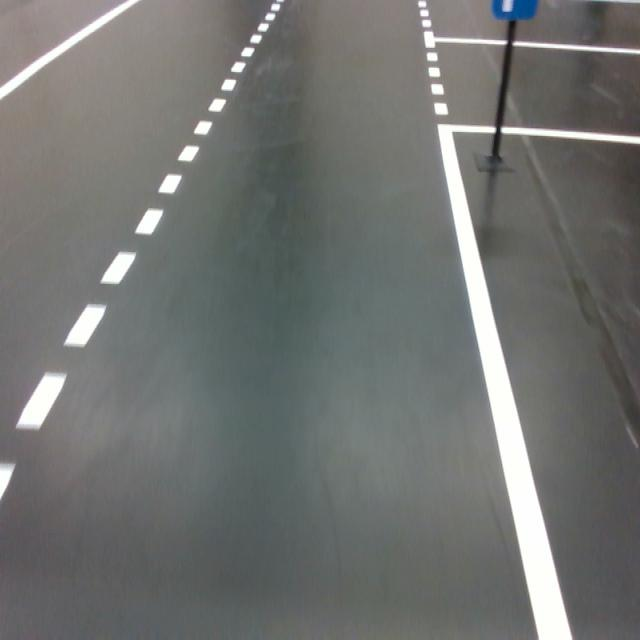parking-sign: (490, 0, 538, 20)
